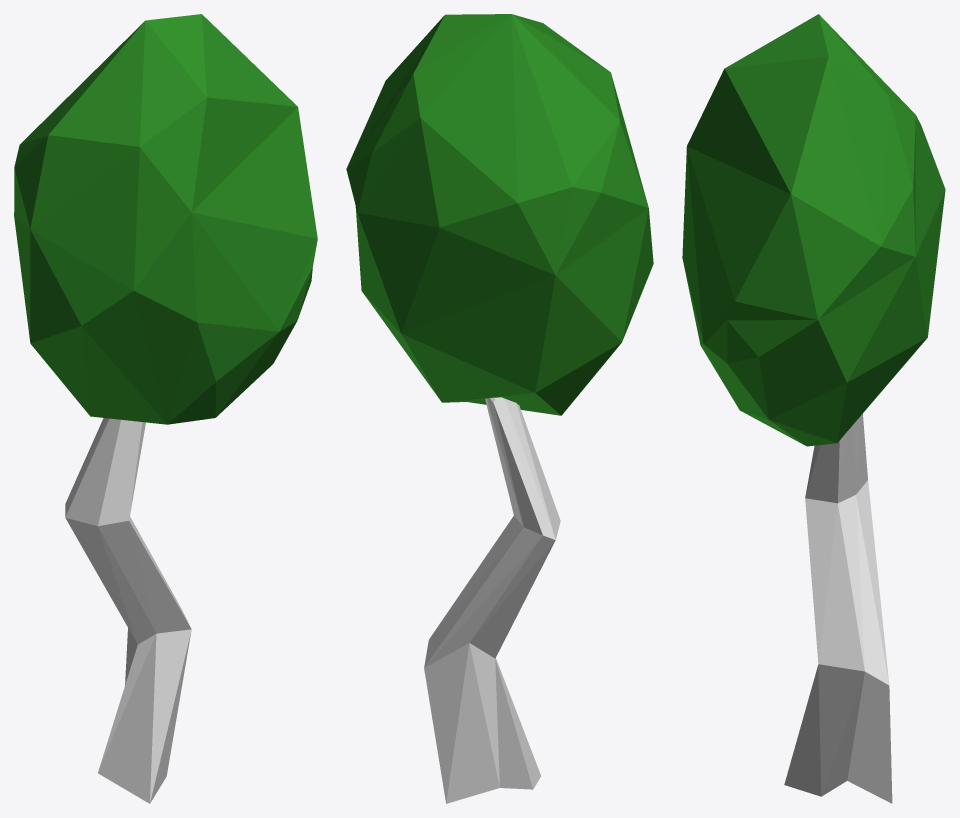
Rendered from tree0.FBX.
The picture shows the model from 3 angles, left to right: view 1: azimuth 30°, elevation 25°; view 2: azimuth 150°, elevation 25°; view 3: azimuth 270°, elevation 25°; orthographic projection.
Visible parts, largest first — view 1: Box019, Cylinder007; view 2: Box019, Cylinder007; view 3: Box019, Cylinder007.
Boxes of the visible parts, x1,y1,x2,y2 form: Box019: (14,14,317,424); Cylinder007: (65,418,191,803); Box019: (346,14,653,415); Cylinder007: (424,397,560,803); Box019: (682,14,945,446); Cylinder007: (784,413,892,803).
Size of the model in its own units: 51.46 by 134 by 41.15.
